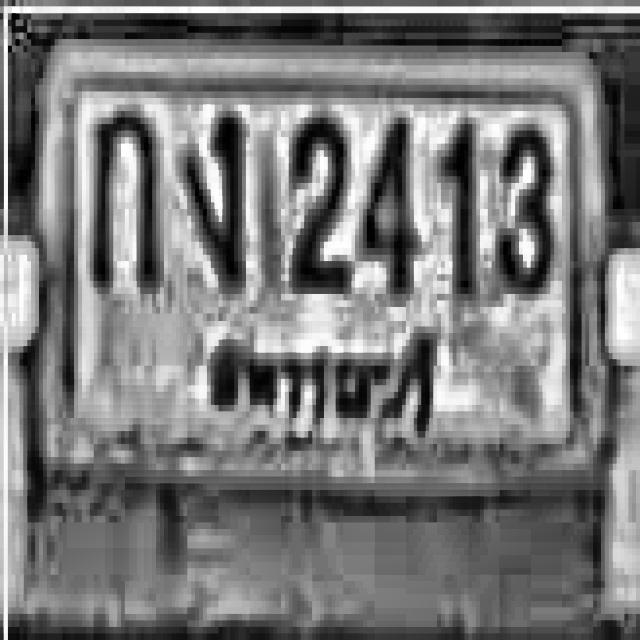license-plate: (35, 28, 618, 521)
